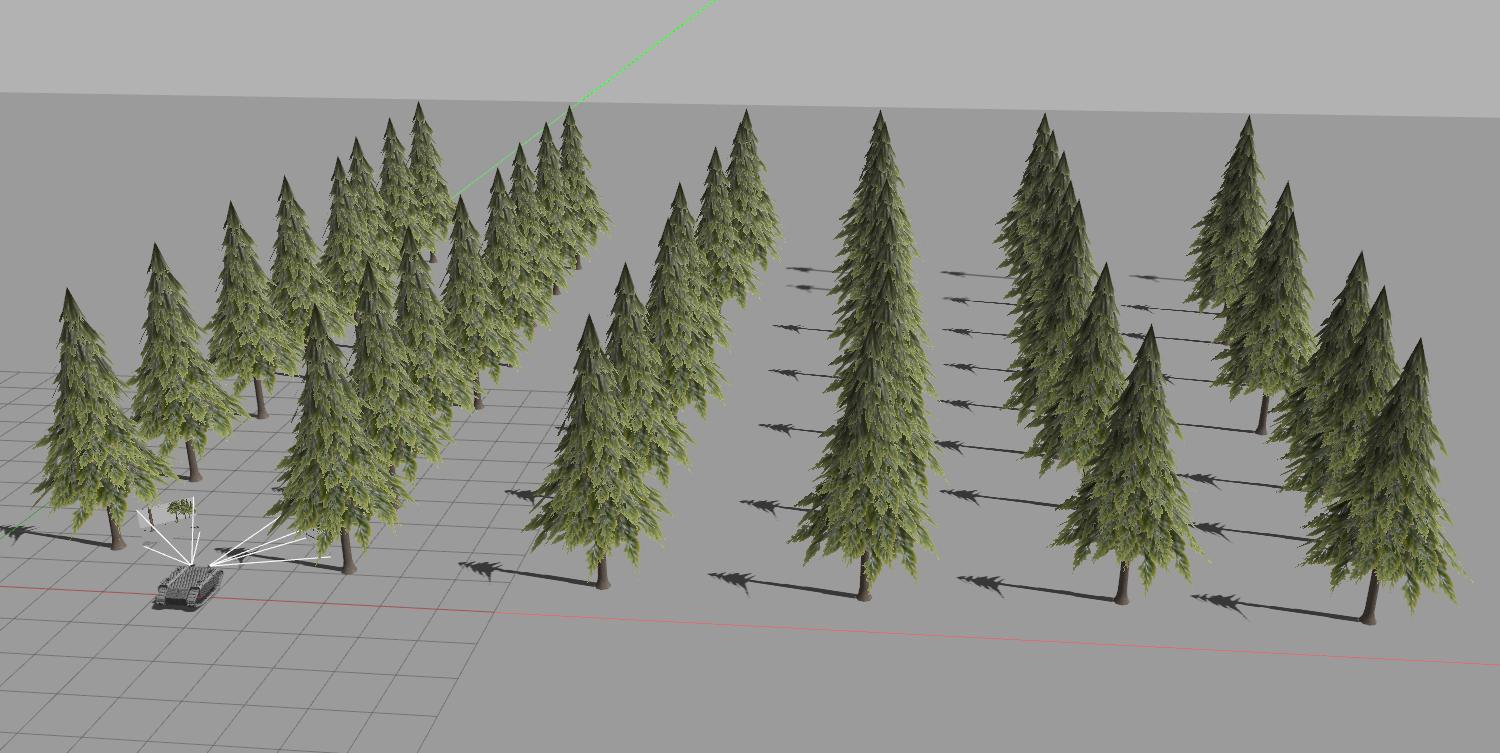tree_gazebo: (1307, 340, 1459, 623), (1055, 328, 1198, 606), (524, 319, 665, 587), (270, 305, 407, 574), (35, 290, 173, 549), (129, 246, 246, 483), (1025, 264, 1131, 473), (352, 264, 451, 480), (1216, 185, 1315, 398), (208, 202, 299, 417), (1271, 255, 1371, 444), (606, 264, 691, 483), (647, 185, 727, 416), (442, 196, 519, 409), (1187, 117, 1269, 309), (396, 231, 472, 426), (483, 170, 551, 366), (270, 179, 349, 347), (510, 144, 565, 338), (322, 158, 372, 319), (349, 138, 398, 287), (536, 123, 583, 271), (560, 108, 609, 246), (410, 103, 454, 240), (381, 120, 428, 248)
